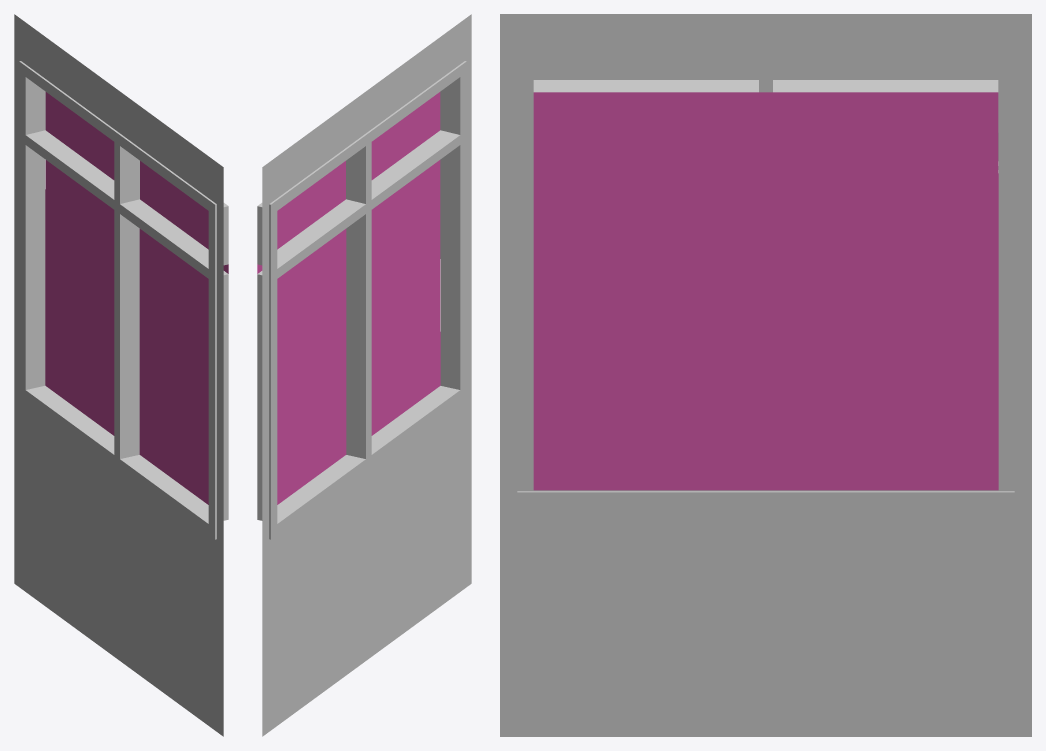
File: modulaie assets army window.fbx
The picture shows the model from 3 angles, left to right: view 1: azimuth 30°, elevation 25°; view 2: azimuth 150°, elevation 25°; view 3: azimuth 270°, elevation 25°; orthographic projection. The views are drawn at different scales.
Parts seen in each view (by area): view 1: Plane; view 2: Plane; view 3: Plane.
Part boxes in pixels (x1,y1,x2,y2): Plane: [14, 14, 228, 736]; Plane: [257, 14, 471, 736]; Plane: [500, 14, 1031, 736].
Size of the model in its own units: 11 by 300 by 200.
